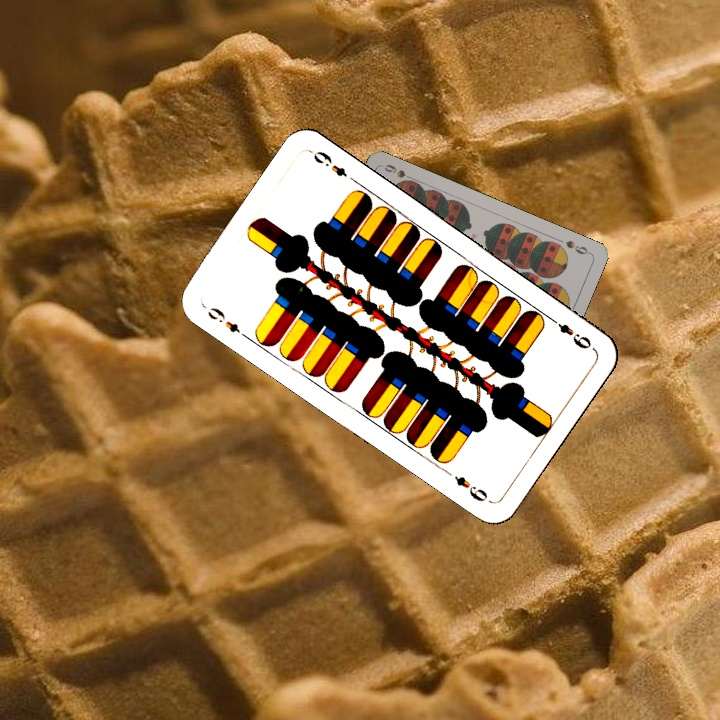E9: (545, 313, 594, 352), (203, 303, 243, 336)
S9: (561, 236, 593, 257)
